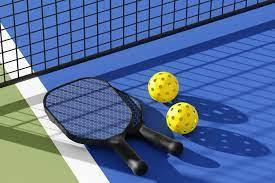ball: (165, 100, 202, 137), (147, 69, 180, 105)
